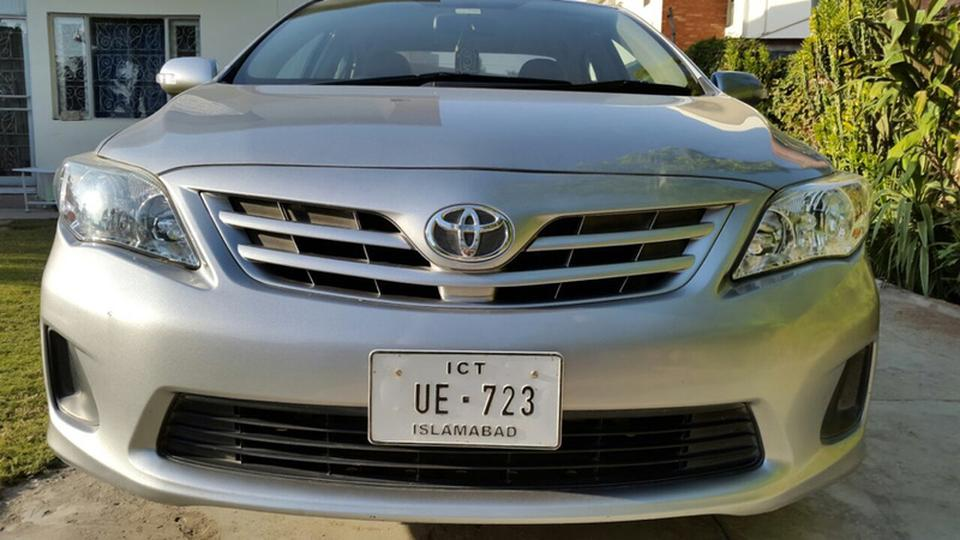NumberPlate: (372, 356, 560, 451)
